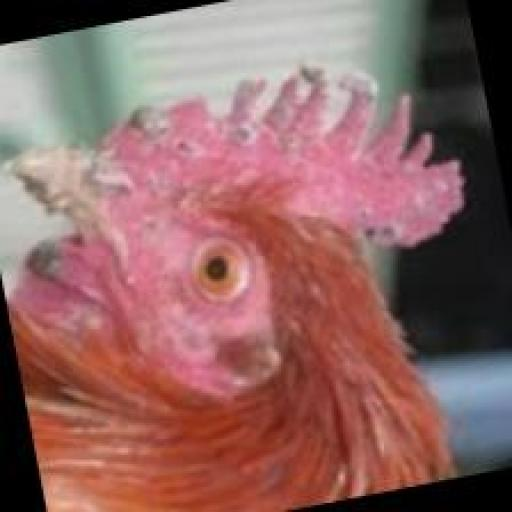disease: (118, 49, 472, 248), (1, 106, 138, 240)
